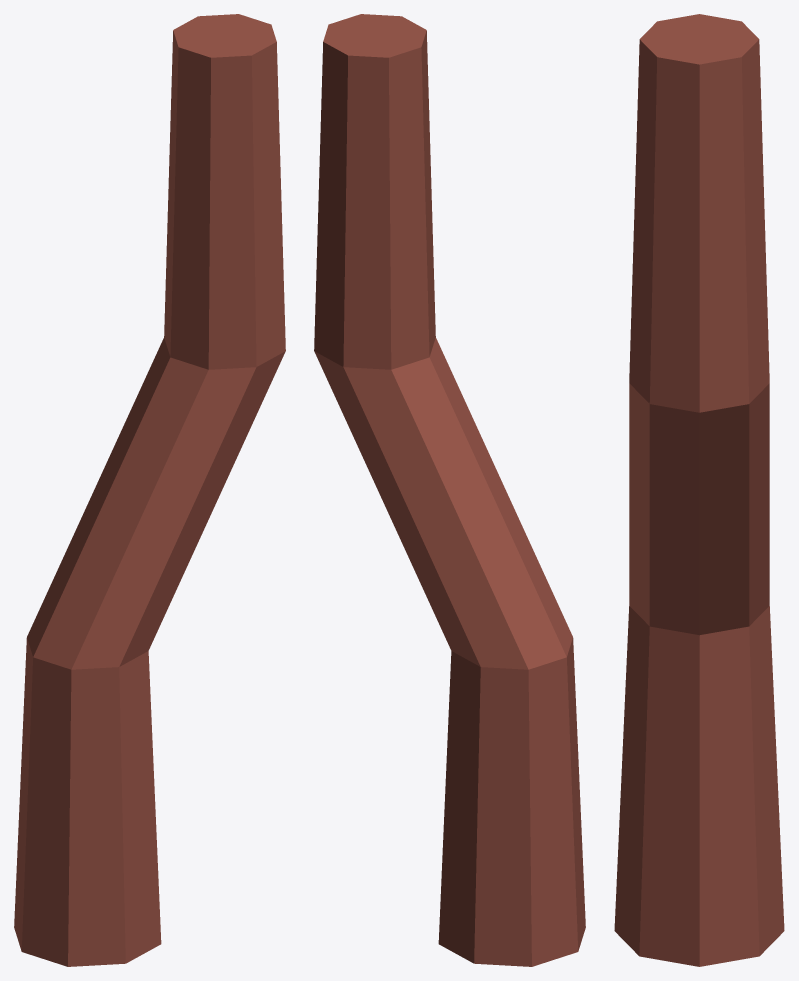
File: Tree_Trunk_2.fbx
3 renders of one model, left to right at view 1: azimuth 30°, elevation 25°; view 2: azimuth 150°, elevation 25°; view 3: azimuth 270°, elevation 25°, orthographic. The views are drawn at different scales.
Visible parts, largest first — view 1: Trunk_1; view 2: Trunk_1; view 3: Trunk_1.
Part boxes in pixels (x1=…): Trunk_1: x1=14, y1=14, x2=285, y2=966; Trunk_1: x1=314, y1=14, x2=585, y2=966; Trunk_1: x1=614, y1=14, x2=784, y2=966.
Size of the model in its own units: 141 by 451 by 71.94.
